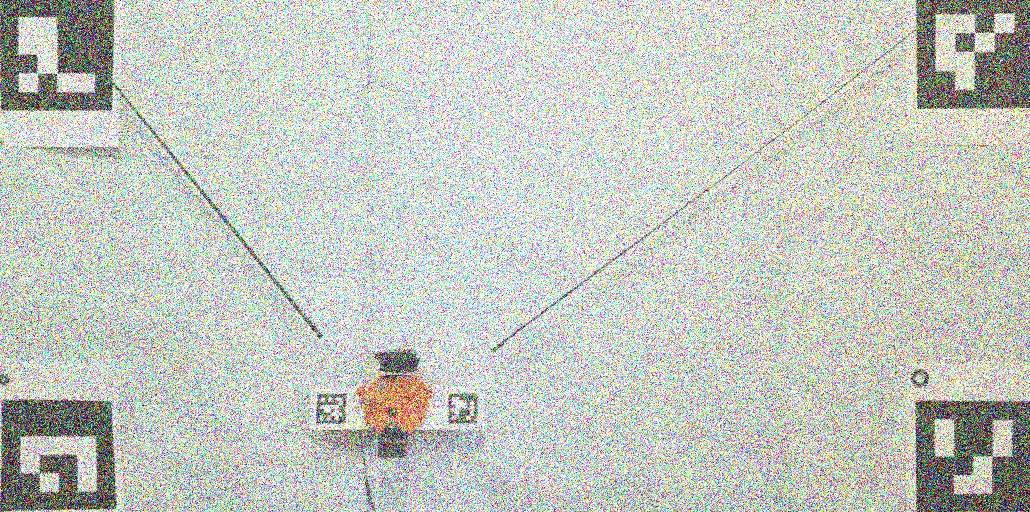robot: (357, 348, 432, 459)
